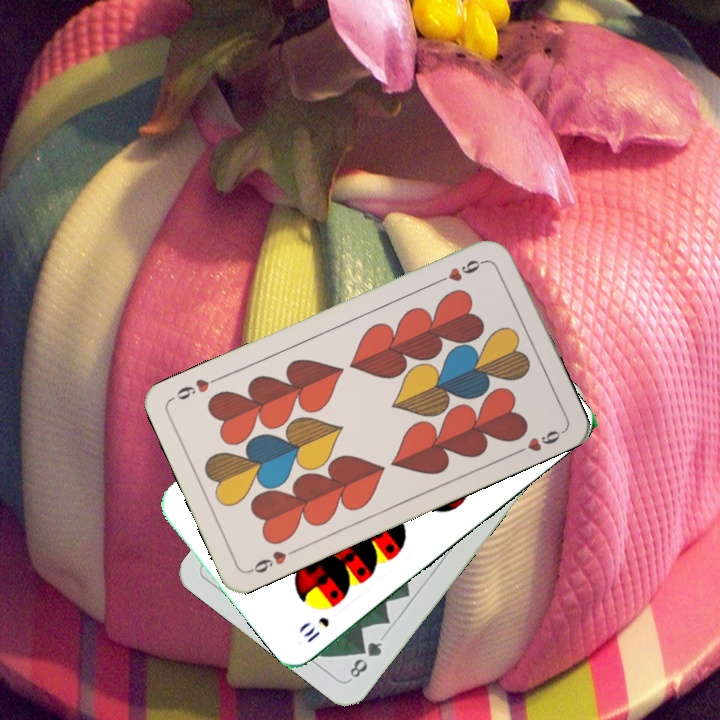G8: (345, 637, 385, 681)
H9: (244, 545, 300, 576), (433, 255, 489, 286)
S10: (299, 613, 332, 646)
